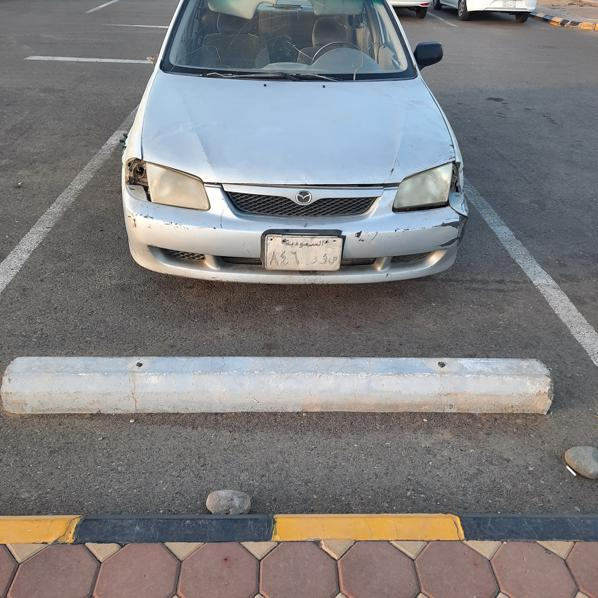numberplate: (265, 235, 342, 273)
